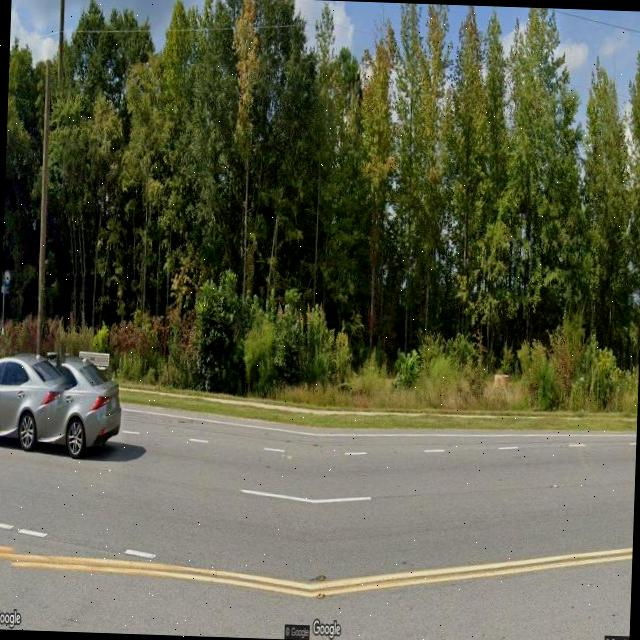seating: (76, 350, 110, 378)
trash_can: (46, 349, 58, 368)
